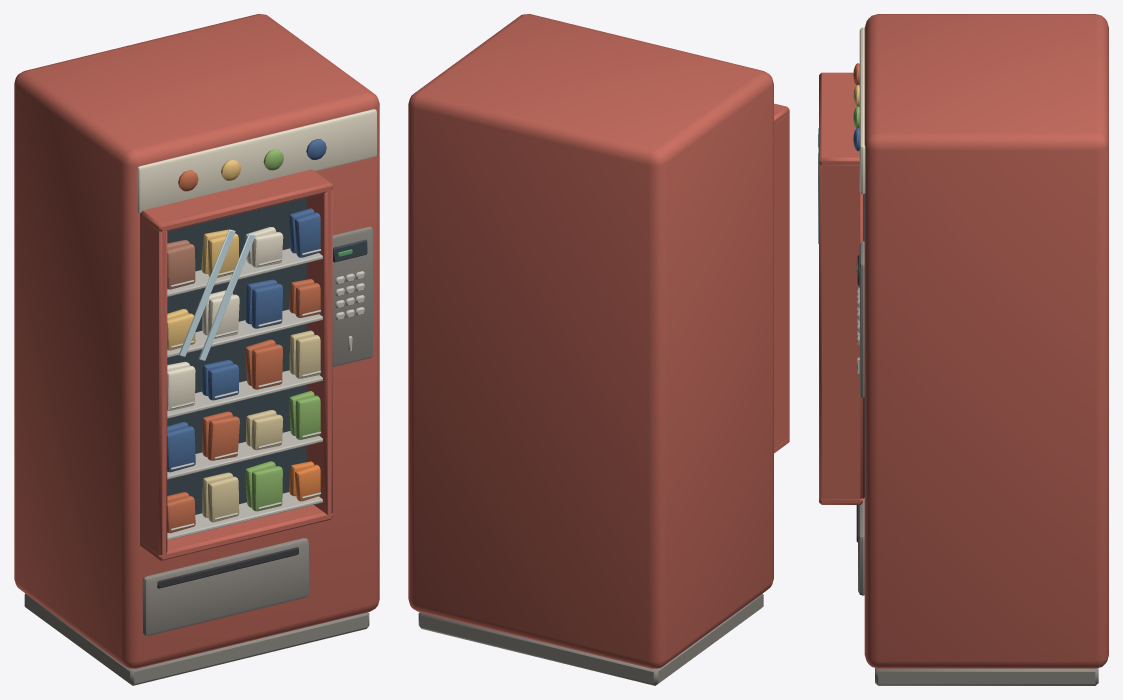
File: snack_machine.glb
3 renders of one model, left to right at view 1: azimuth 30°, elevation 25°; view 2: azimuth 150°, elevation 25°; view 3: azimuth 270°, elevation 25°, orthographic. The views are drawn at different scales.
Parts seen in each view (by area): view 1: car_red, steel_dark, cream, screen, steel, sign_blue, food_c, book_d, food_b, poster_c, glass, book_b (+2 smaller); view 2: car_red, steel_dark; view 3: car_red, steel_dark, cream.
Boxes of the visible parts, x1=… form: car_red: x1=14, y1=14, x2=379, y2=668; steel_dark: x1=24, y1=226, x2=372, y2=685; cream: x1=137, y1=109, x2=376, y2=410; screen: x1=167, y1=197, x2=367, y2=514; steel: x1=167, y1=248, x2=364, y2=540; sign_blue: x1=167, y1=139, x2=326, y2=472; food_c: x1=167, y1=170, x2=320, y2=533; book_d: x1=202, y1=330, x2=320, y2=522; food_b: x1=245, y1=149, x2=320, y2=511; poster_c: x1=167, y1=160, x2=241, y2=350; glass: x1=178, y1=229, x2=255, y2=360; book_b: x1=167, y1=240, x2=195, y2=289; car_red: x1=408, y1=14, x2=789, y2=668; steel_dark: x1=418, y1=593, x2=763, y2=685; car_red: x1=819, y1=14, x2=1108, y2=668; steel_dark: x1=858, y1=241, x2=1098, y2=685; cream: x1=859, y1=27, x2=865, y2=194.
Bounding box in the file's own units: 0.9 × 1.8 × 0.858.
